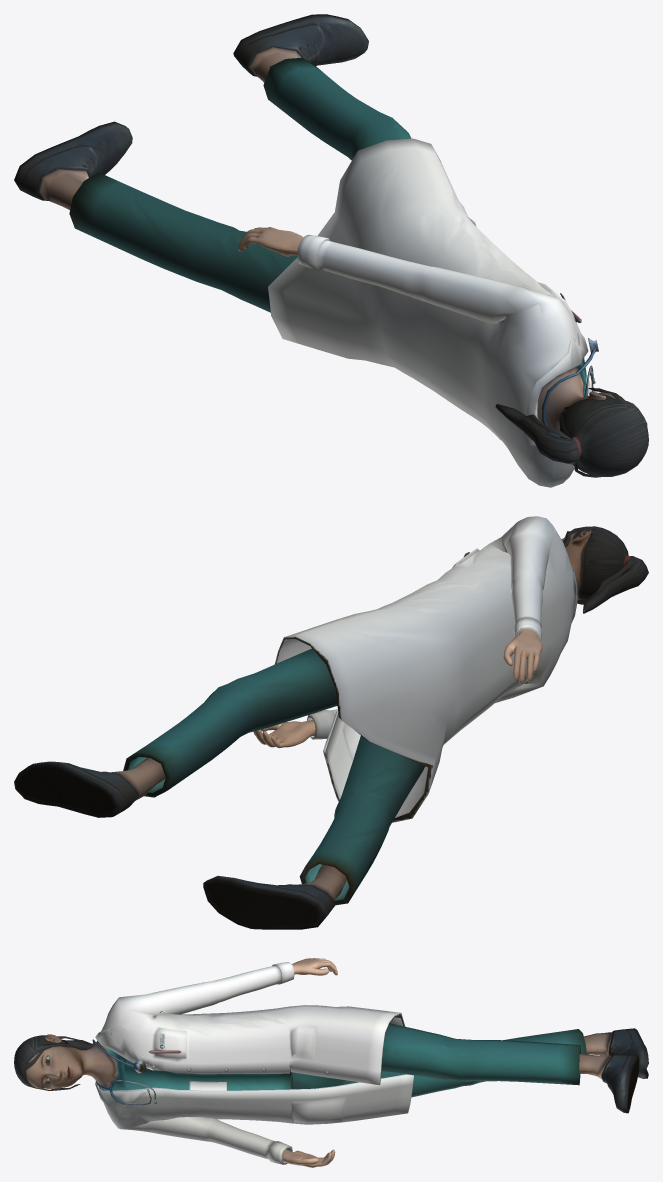
Rendered from walk.obj.
3 views of the same model, one above another, from view 1: azimuth 30°, elevation 25°; view 2: azimuth 150°, elevation 25°; view 3: azimuth 270°, elevation 25° (orthographic). The views are drawn at different scales.
Size of the model in its own units: 0.7298 by 0.3746 by 1.71.
1 material, 1 textured.
